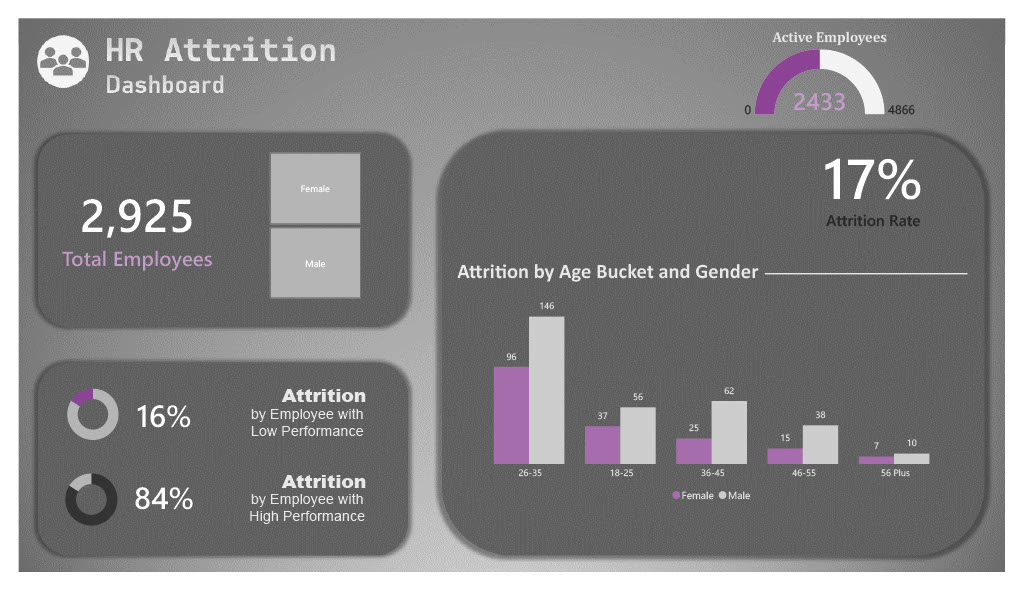

The dashboard page shown, as its layout file describes it:
{"tool":"powerbi","page":{"name":"Age Bucket Attrition","canvas":[1280,720],"ordinal":2},"visuals":[{"type":"card","fields":{"Values":["All Measures.Total Employees"]},"box":[27.4,149.8,253.4,239],"z":0},{"type":"card","fields":{"Values":["All Measures.% Attrition"]},"box":[986.4,149.8,244.8,129.6],"z":1000},{"type":"clusteredColumnChart","title":"Attrition by Age Bucket and Gender","fields":{"Y":["All Measures.Inactive Employees"],"Category":["Data.Age Bucket"],"Series":["Data.Gender"]},"box":[569.5,311.6,662.4,323.3],"z":2000},{"type":"shape","box":[967.7,311,263.5,40.3],"z":3000},{"type":"textbox","box":[324,466.6,144,50.4],"z":4000},{"type":"textbox","box":[280.8,498.2,187.2,54.7],"z":5000},{"type":"textbox","box":[324,577.9,144,50.4],"z":6000},{"type":"textbox","box":[280.8,608.1,187.2,54.7],"z":7000},{"type":"donutChart","fields":{"Category":["Data.Performance Status"],"Y":["All Measures.Inactive Employees"]},"box":[46.5,466.6,99.4,93.6],"z":8000},{"type":"donutChart","fields":{"Category":["Data.Performance Status"],"Y":["All Measures.Inactive Employees"]},"box":[45.1,577.4,99.4,93.6],"z":9000},{"type":"card","fields":{"Values":["All Measures.% Low Performance"]},"box":[126.3,481,125.3,64.8],"z":10000},{"type":"card","fields":{"Values":["All Measures.% High Performance"]},"box":[126.3,587.5,125.3,64.8],"z":11000},{"type":"slicer","fields":{"Values":["Data.Gender"]},"box":[299.5,167,168.5,203],"z":12000},{"type":"gauge","fields":{"Y":["All Measures.Active Employees"]},"box":[925.5,13.1,252.7,120.4],"z":12001}]}

Visuals, with their boxes in screenshot pixels (x1, y1, x2, y2), scaled from the page's 1280x720 canvas onto the 1024x592 screenshot:
card - All Measures.Total Employees: Rect(22, 123, 225, 320)
card - All Measures.% Attrition: Rect(789, 123, 985, 230)
"Attrition by Age Bucket and Gender" clusteredColumnChart: Rect(456, 256, 986, 522)
shape: Rect(774, 256, 985, 289)
textbox: Rect(259, 384, 374, 425)
textbox: Rect(225, 410, 374, 455)
textbox: Rect(259, 475, 374, 517)
textbox: Rect(225, 500, 374, 545)
donutChart - Data.Performance Status x All Measures.Inactive Employees: Rect(37, 384, 117, 461)
donutChart - Data.Performance Status x All Measures.Inactive Employees: Rect(36, 475, 116, 552)
card - All Measures.% Low Performance: Rect(101, 395, 201, 449)
card - All Measures.% High Performance: Rect(101, 483, 201, 536)
slicer - Data.Gender: Rect(240, 137, 374, 304)
gauge - All Measures.Active Employees: Rect(740, 11, 943, 110)
